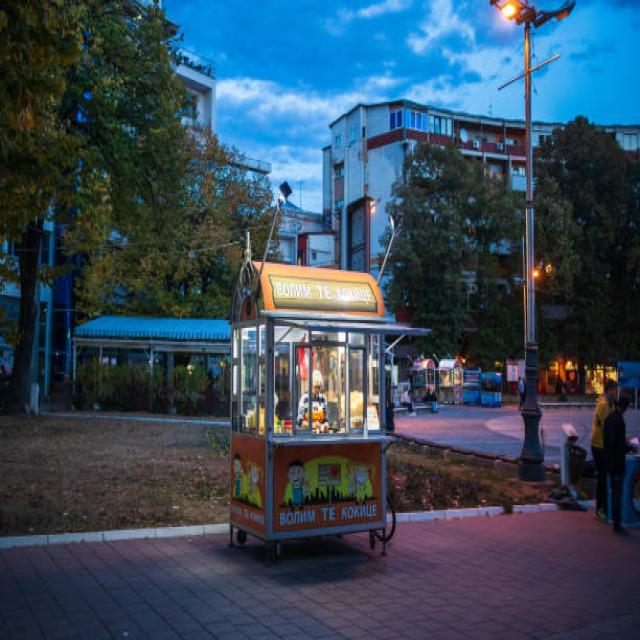Emperan: (213, 186, 440, 580)
